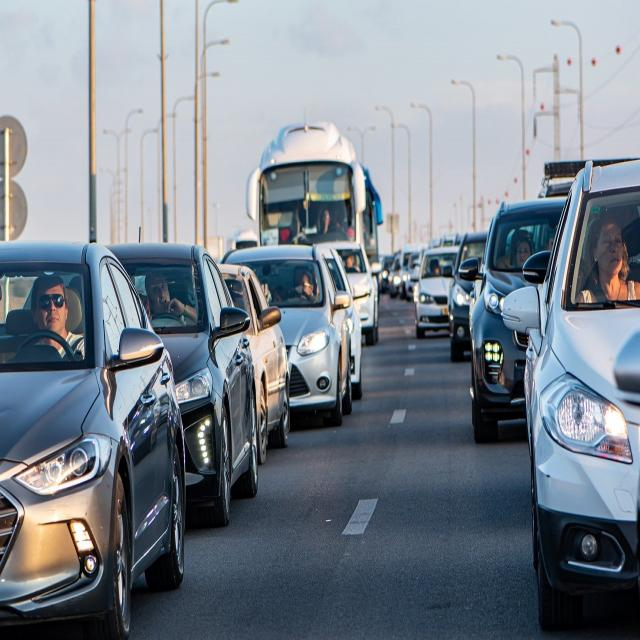bus: (248, 117, 368, 326)
car: (1, 238, 188, 632), (100, 233, 258, 519), (463, 194, 610, 438), (223, 244, 346, 420)
